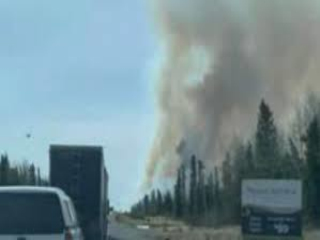smoke: (141, 6, 239, 204)
